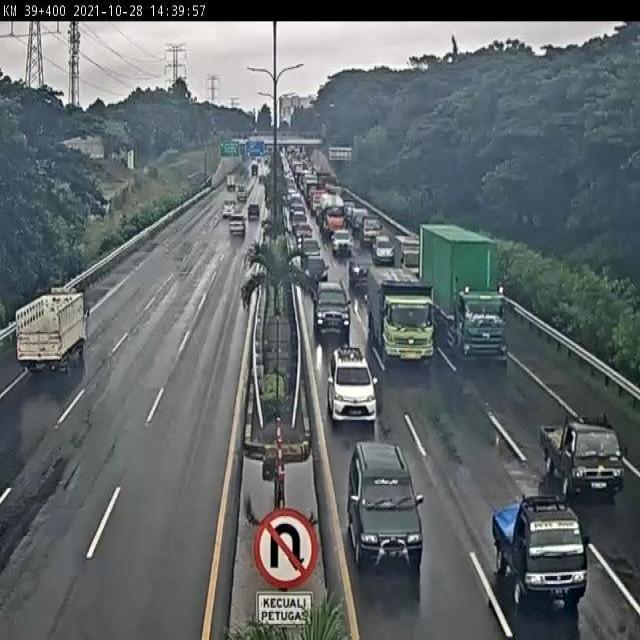big truck: (420, 227, 510, 361), (368, 265, 437, 355)
car: (491, 496, 586, 600), (349, 442, 423, 566), (542, 416, 625, 495), (329, 344, 378, 425), (311, 279, 349, 328), (347, 249, 371, 283), (302, 251, 326, 285), (359, 213, 381, 247), (372, 232, 394, 259), (332, 225, 351, 251)
mid truck: (9, 294, 86, 374)
small truck: (393, 235, 421, 272)
